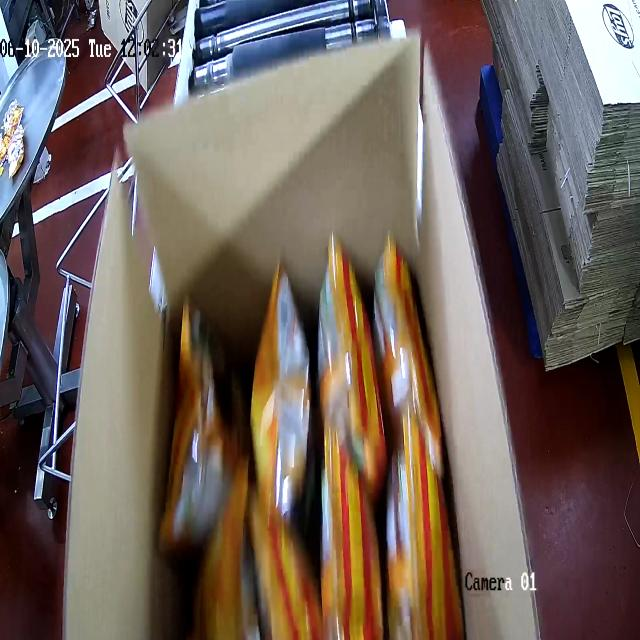FRENCH_CHEESE: (176, 254, 486, 640)
